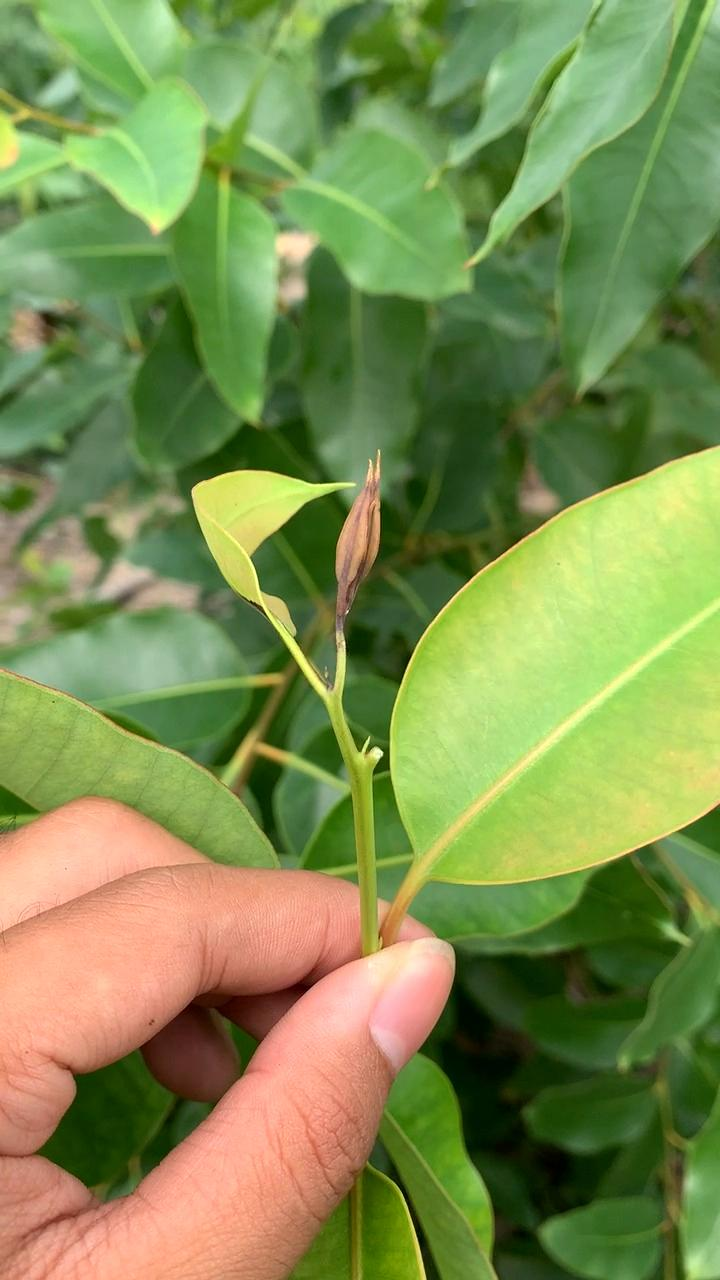Helopeltis-Withered Sprout: (320, 458, 389, 622)
